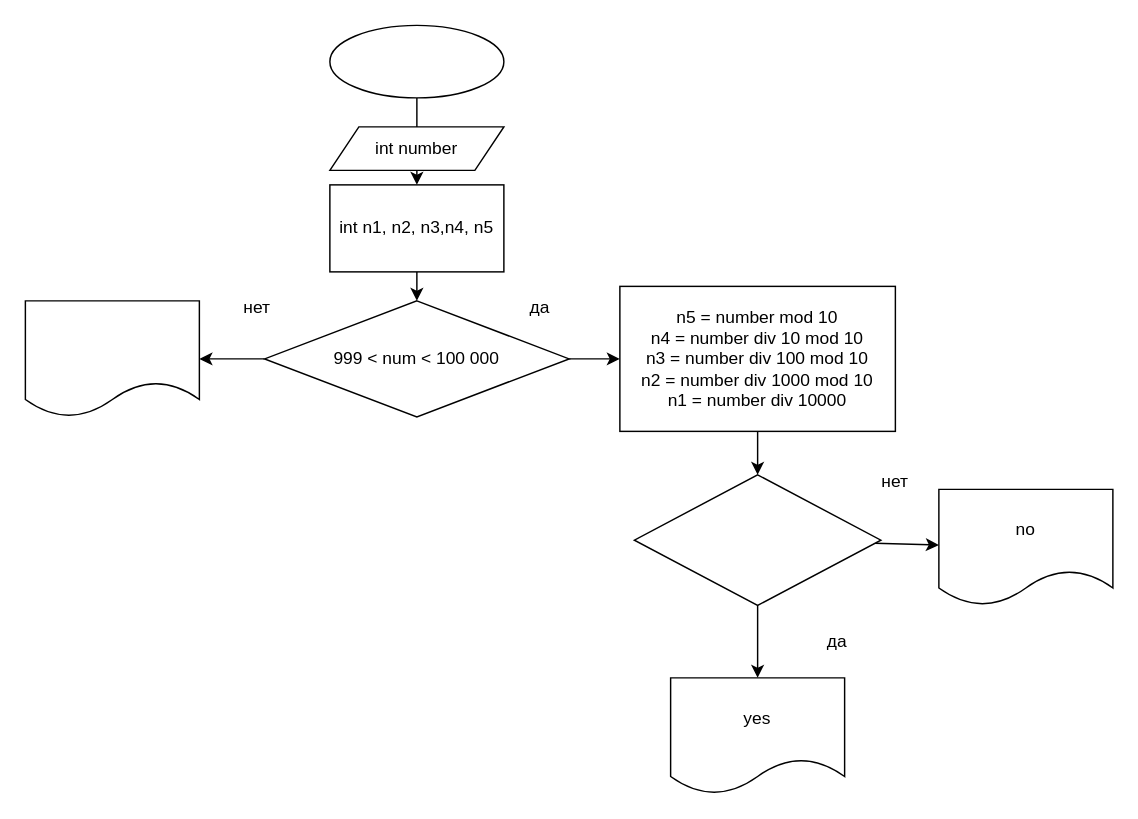
The diagram is 1138 pixels wide and 819 high, and some of its shapes have lost their labels. The centre of each missing label's shape, as x and y in pixels:
n1 == n5 n2==n4 n3 == n3: the point at 757,539
Start: the point at 416,61
введите пятизначное число: the point at 111,358
